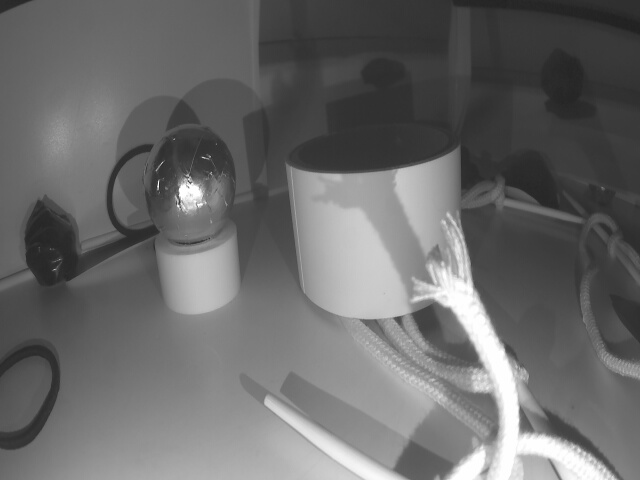Dead: (24, 204, 85, 282)
Live: (142, 121, 236, 243)
